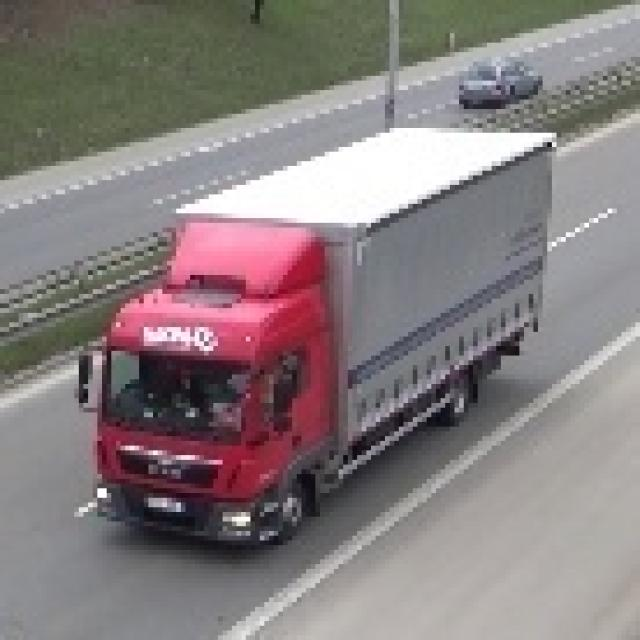truck: (69, 119, 552, 545)
